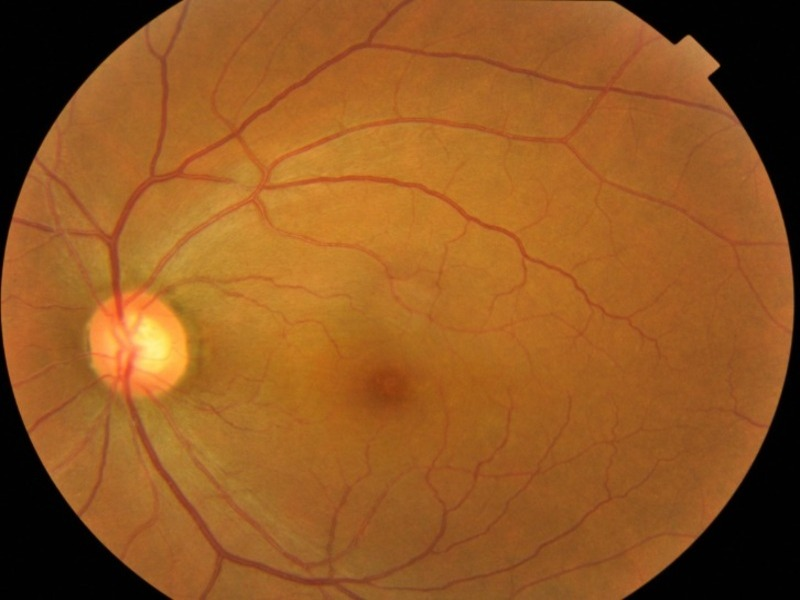Optic Cup: (131, 319, 169, 372)
Optic Disc: (85, 290, 188, 396)
